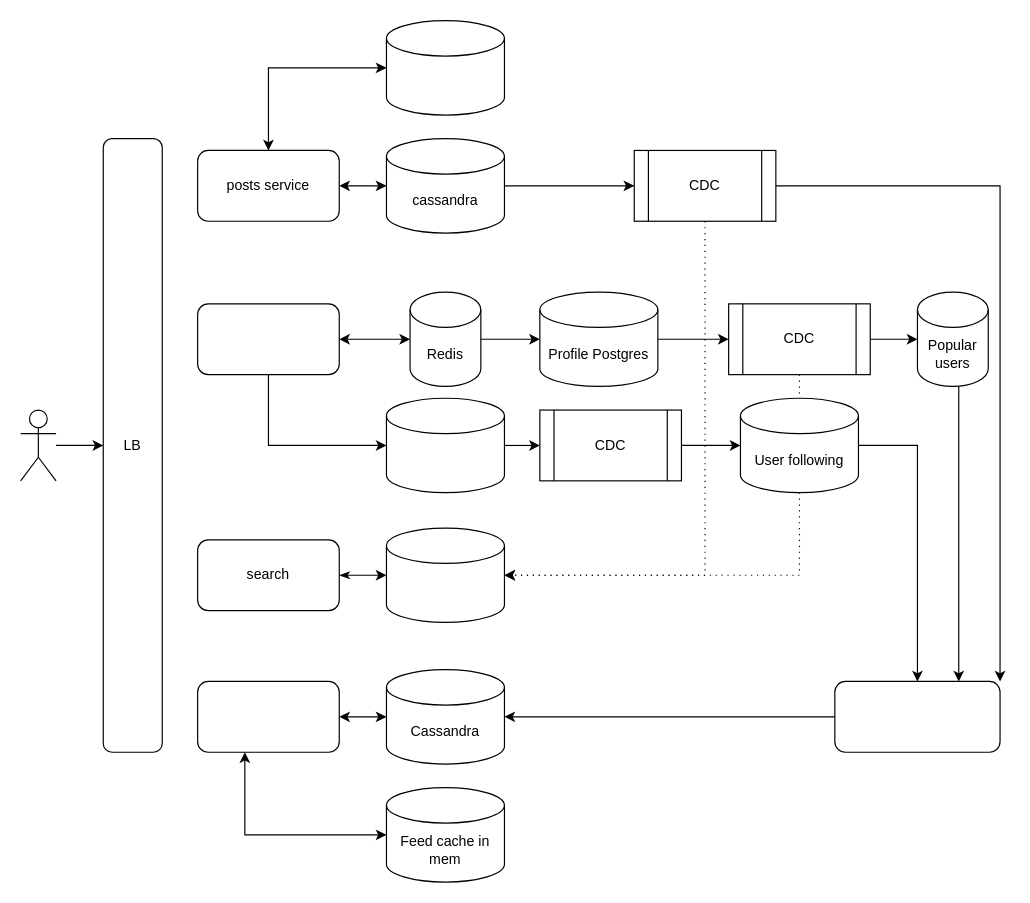
Image size: 1030x903. Some labels were removed from this diagram. The shapes that lost their labels are listed below. From the top down, each one's centre as x and y in pixels, then its label:
At point 444,67: "Popular posts Redis".
At point 267,339: "users / profile service".
At point 37,445: "user".
At point 444,445: "User follows".
At point 444,574: "Elastic search".
At point 267,716: "feed".
At point 917,716: "Flink shared by user id".
